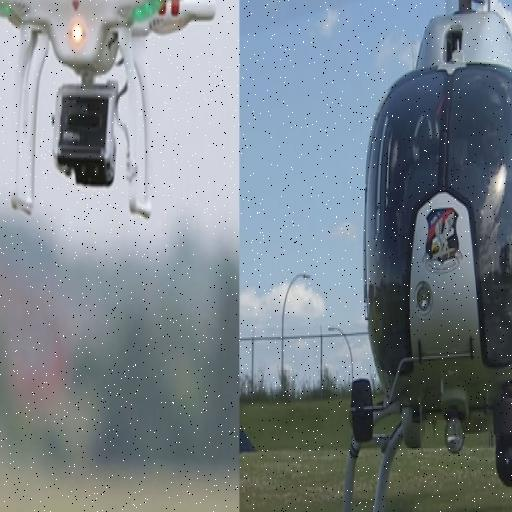helicopter: (266, 1, 512, 512)
